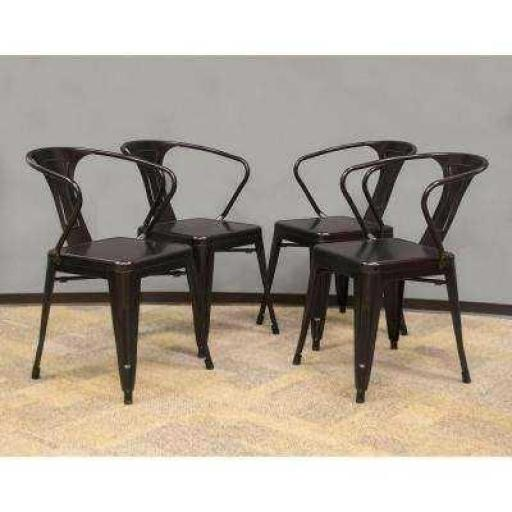chair: (24, 143, 218, 407), (296, 144, 492, 404)
